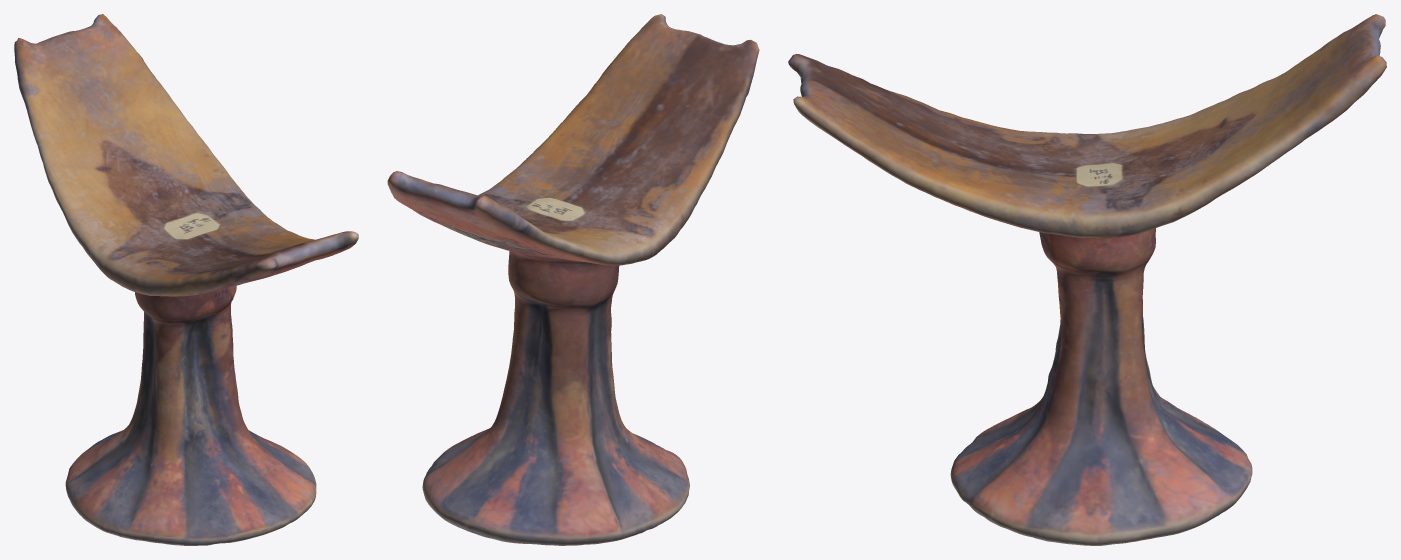
Rendered from headrest.gltf.
3 renders of one model, left to right at view 1: azimuth 30°, elevation 25°; view 2: azimuth 150°, elevation 25°; view 3: azimuth 270°, elevation 25°, orthographic. The views are drawn at different scales.
Visible parts, largest first — view 1: headrest-low; view 2: headrest-low; view 3: headrest-low.
Part boxes in pixels (x1=…): headrest-low: x1=14, y1=14, x2=358, y2=545; headrest-low: x1=387, y1=14, x2=759, y2=545; headrest-low: x1=788, y1=14, x2=1386, y2=545.
Bounding box in the file's own units: 8.71 × 14.84 × 17.94.
Materials: 1 (1 with a texture image).
